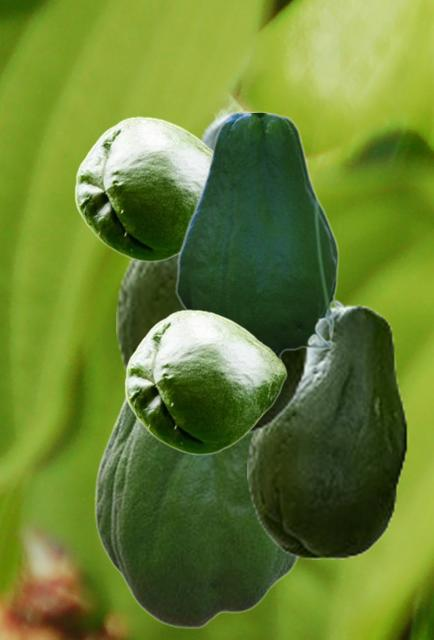sayote: (116, 110, 319, 434), (94, 394, 299, 628), (175, 113, 343, 360), (247, 304, 407, 558), (124, 309, 286, 454), (74, 116, 211, 261)
